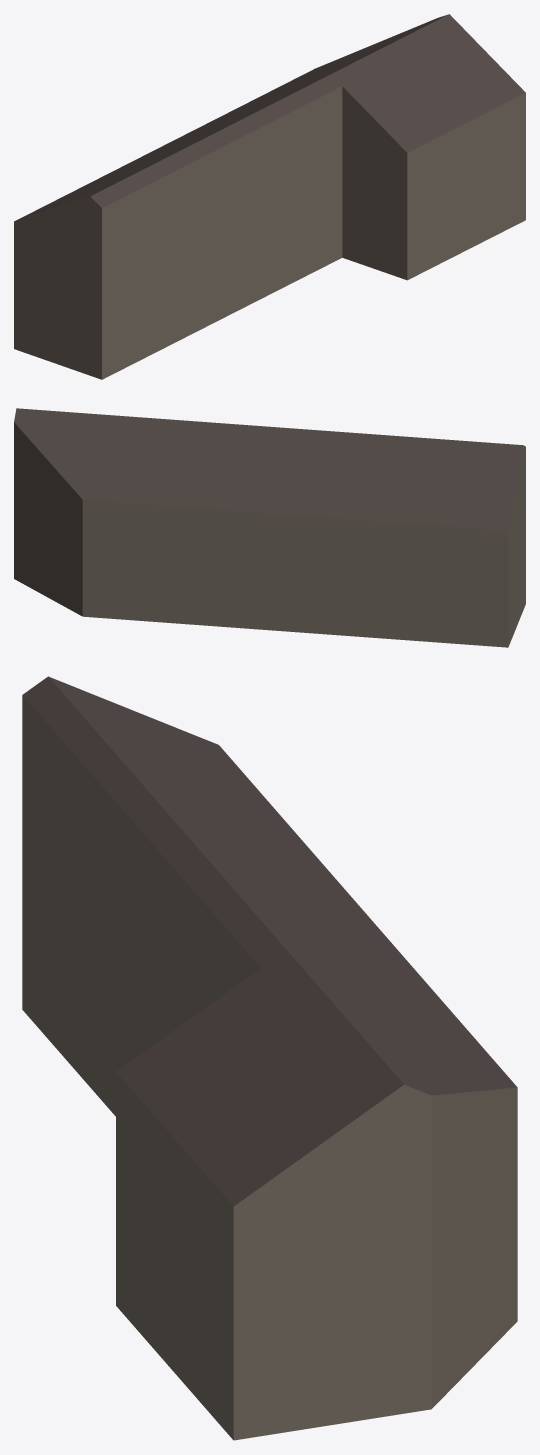
The picture shows the model from 3 angles, top to bottom: view 1: azimuth 30°, elevation 25°; view 2: azimuth 150°, elevation 25°; view 3: azimuth 270°, elevation 25°; orthographic projection. The views are drawn at different scales.
Visible parts, largest first — view 1: HP-w1138074125; view 2: HP-w1138074125; view 3: HP-w1138074125.
Part boxes in pixels (<box>): HP-w1138074125: <box>14,14,525,379</box>; HP-w1138074125: <box>14,408,525,647</box>; HP-w1138074125: <box>22,676,517,1440</box>.
Bounding box in the file's own units: 38.12 × 12.67 × 17.29.
